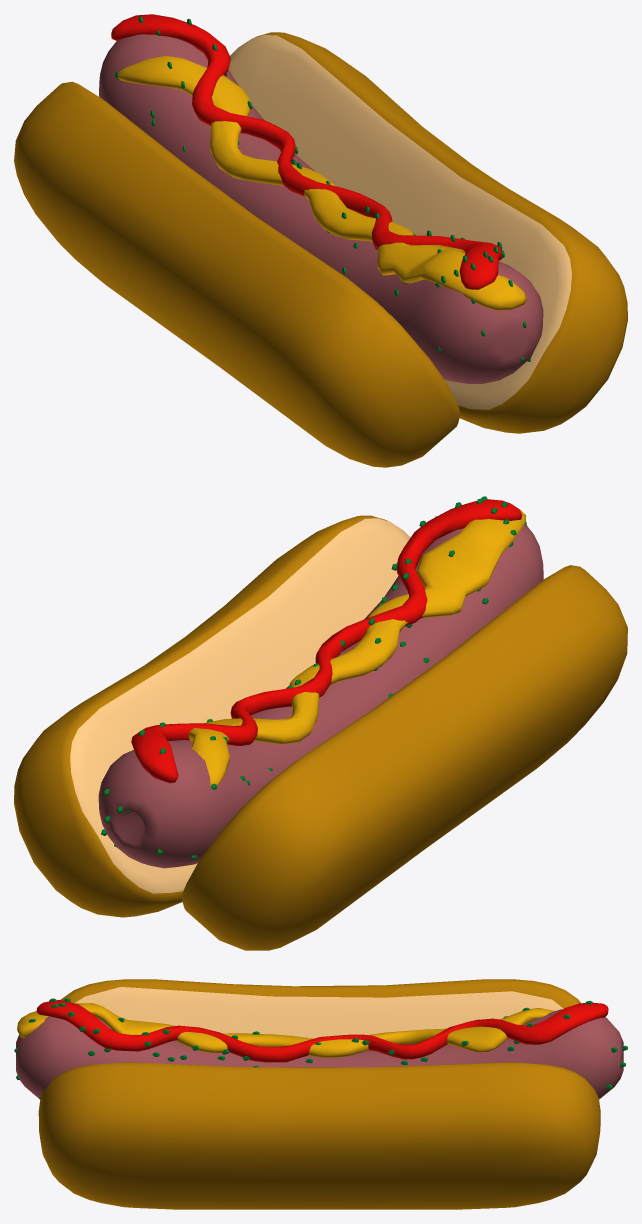
Rendered from l_hotdog.fbx.
The picture shows the model from 3 angles, top to bottom: view 1: azimuth 30°, elevation 25°; view 2: azimuth 150°, elevation 25°; view 3: azimuth 270°, elevation 25°; orthographic projection. The views are drawn at different scales.
Parts seen in each view (by area): view 1: Cube; view 2: Cube; view 3: Cube.
Part boxes in pixels (bbox=[...]): Cube: bbox=[14, 14, 627, 467]; Cube: bbox=[14, 496, 627, 950]; Cube: bbox=[14, 979, 627, 1209].
Size of the model in its own units: 623 by 411 by 1275.
